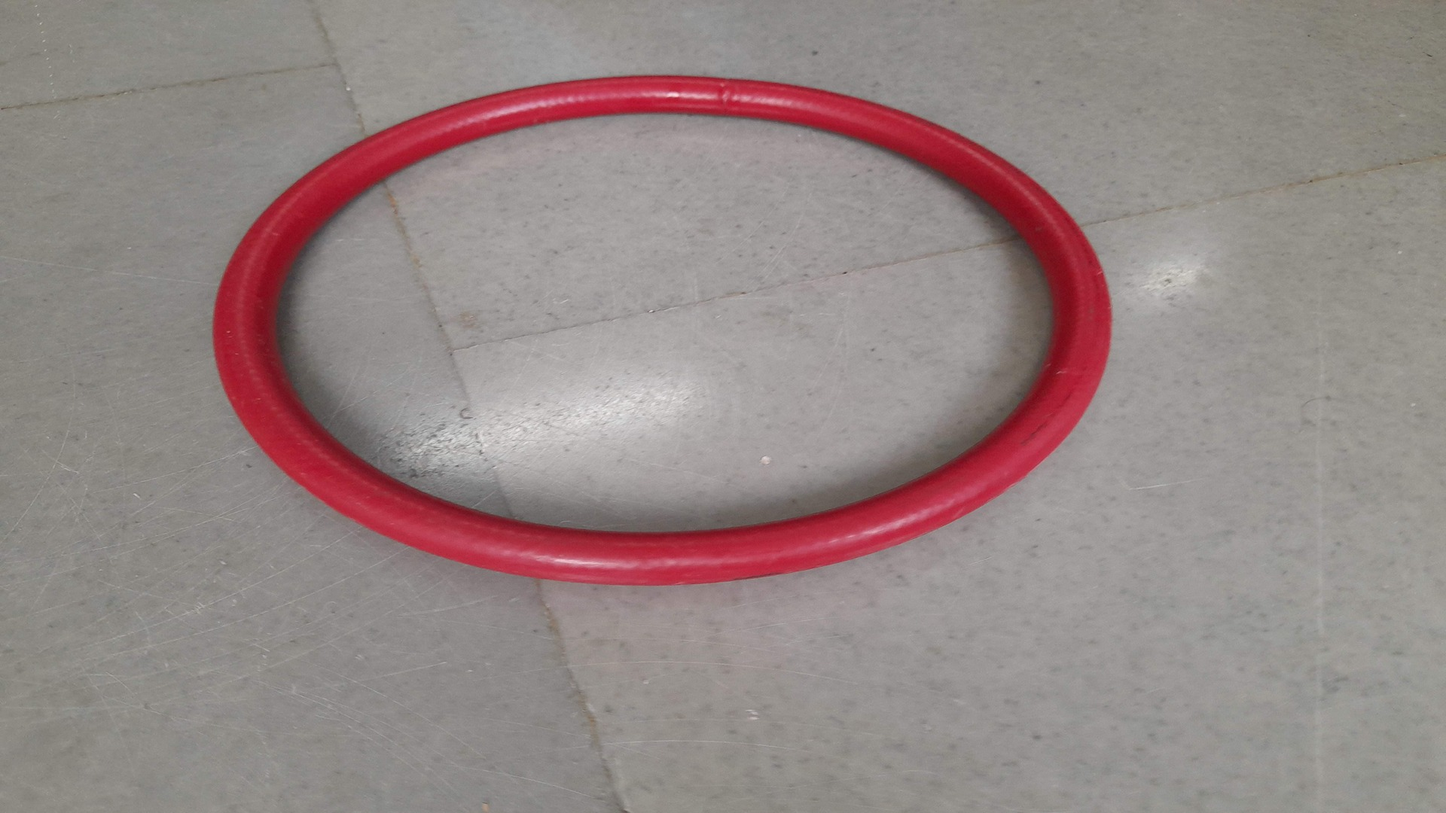Red ring: (206, 69, 1113, 587)
